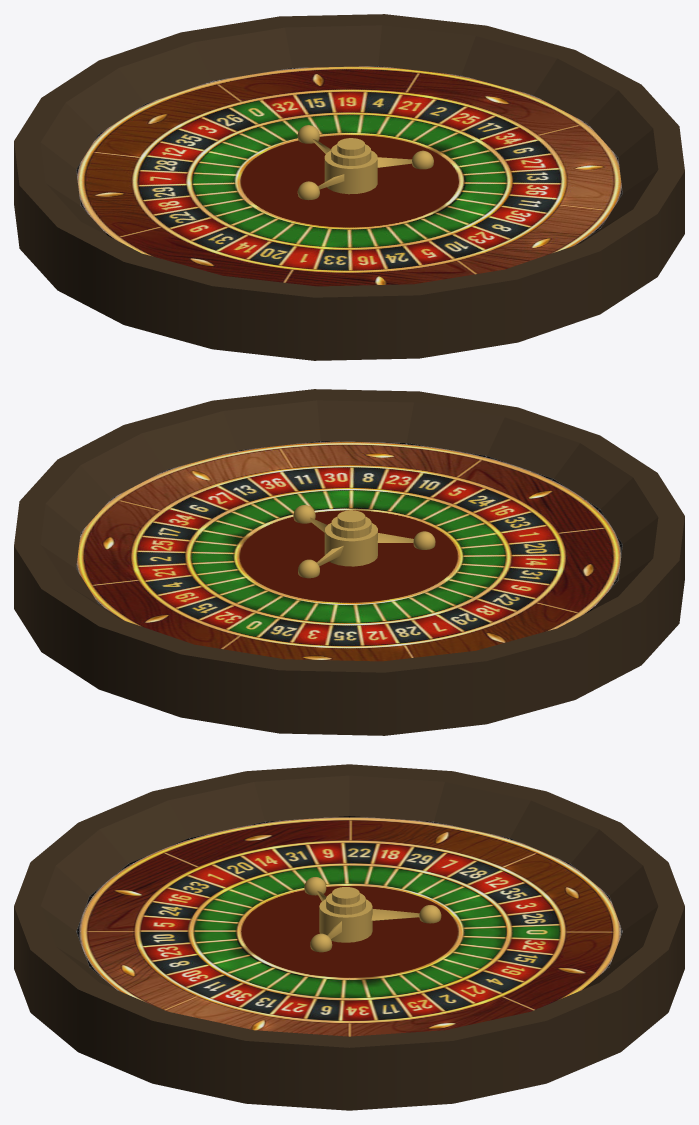
The model's file is casino.fbx.
3 renders of one model, top to bottom at view 1: azimuth 30°, elevation 25°; view 2: azimuth 150°, elevation 25°; view 3: azimuth 270°, elevation 25°, orthographic.
Parts seen in each view (by area): view 1: polySurface4; view 2: polySurface4; view 3: polySurface4.
Boxes of the visible parts, box(x1,y1,x2,y2) form: polySurface4: box(14, 14, 684, 360); polySurface4: box(14, 389, 684, 735); polySurface4: box(14, 764, 684, 1110).
Bounding box in the file's own units: 0.9831 × 0.123 × 0.9831.
